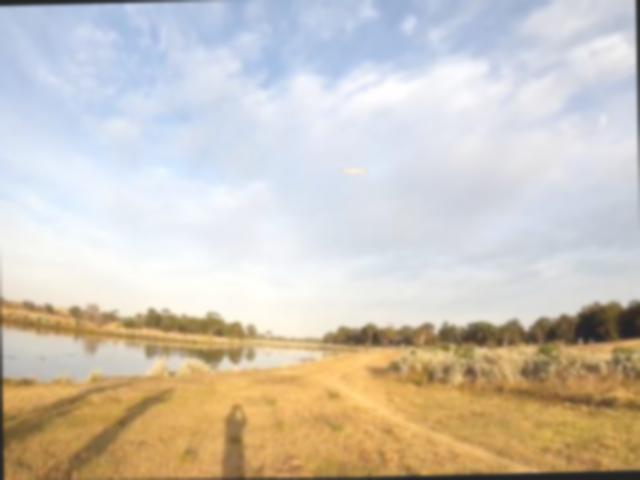uav: (339, 162, 369, 179)
